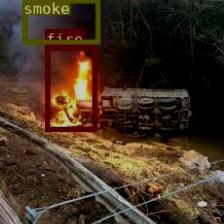fire: (45, 45, 96, 131)
smoke: (22, 0, 99, 43)
